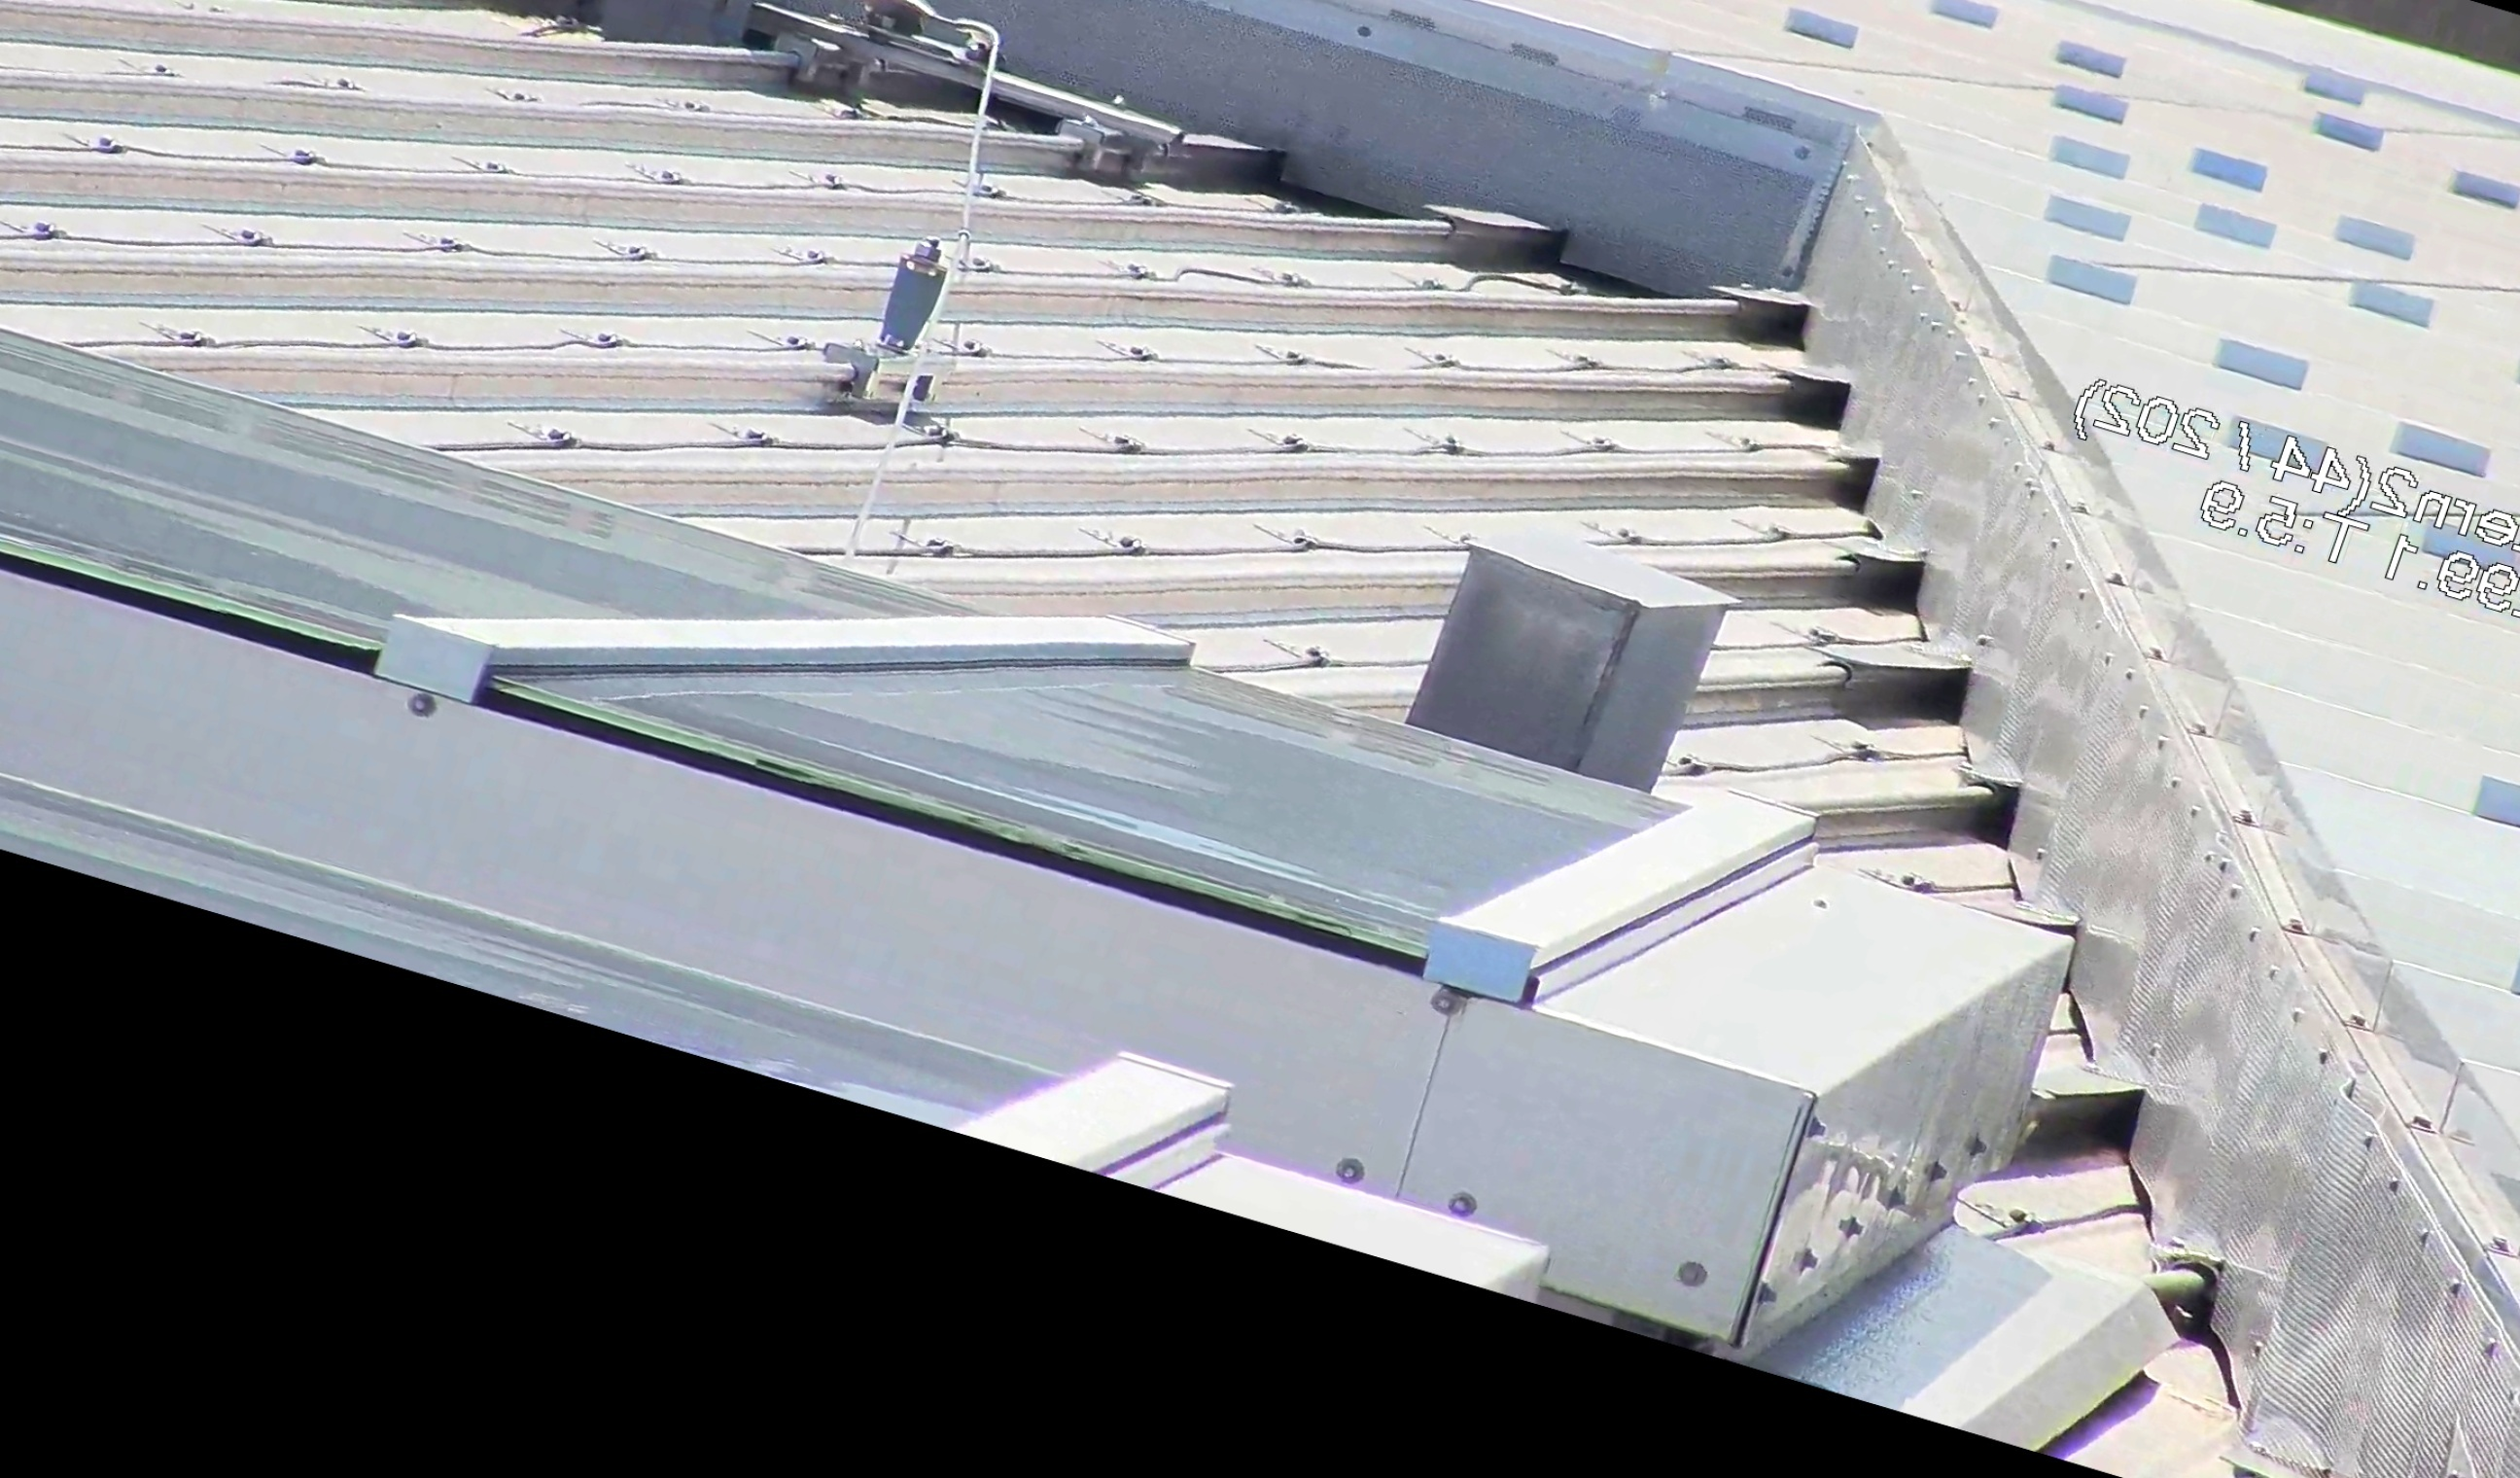Other: (2084, 1223, 2304, 1445)
